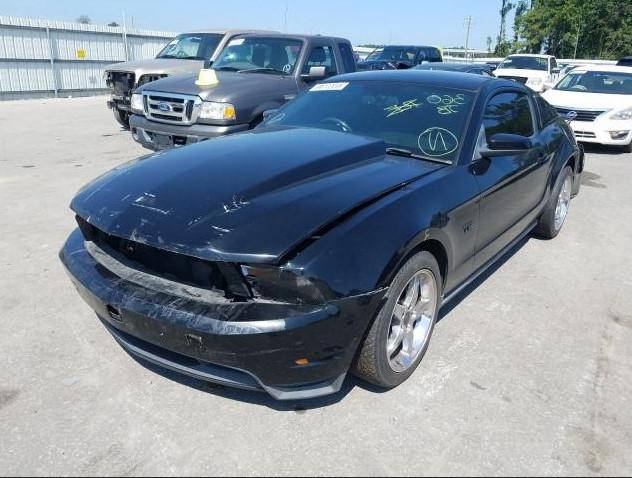Broken part: (230, 165, 446, 269), (234, 264, 327, 304), (323, 279, 390, 304), (185, 334, 206, 355), (109, 305, 123, 322)
Missing part: (75, 215, 252, 302)
Scratch: (65, 247, 257, 331), (105, 218, 191, 254), (131, 203, 172, 215), (221, 196, 250, 212), (247, 347, 287, 356), (210, 224, 235, 233), (186, 216, 202, 226), (142, 191, 157, 198), (109, 210, 122, 217), (120, 194, 131, 202), (134, 195, 144, 203), (86, 215, 91, 222), (218, 233, 223, 236)
